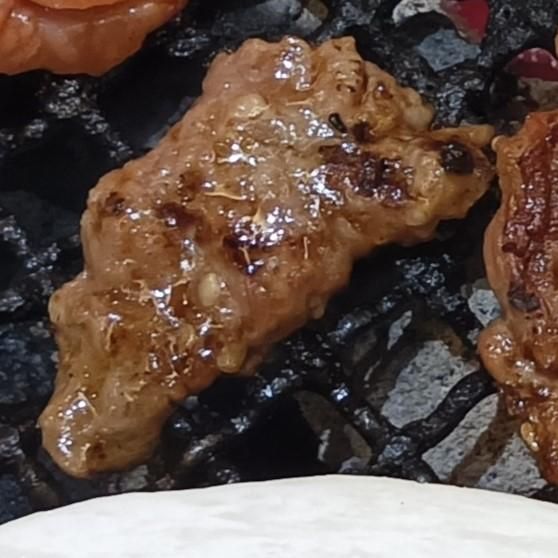Overcooked: (35, 39, 497, 481), (478, 107, 557, 493)
